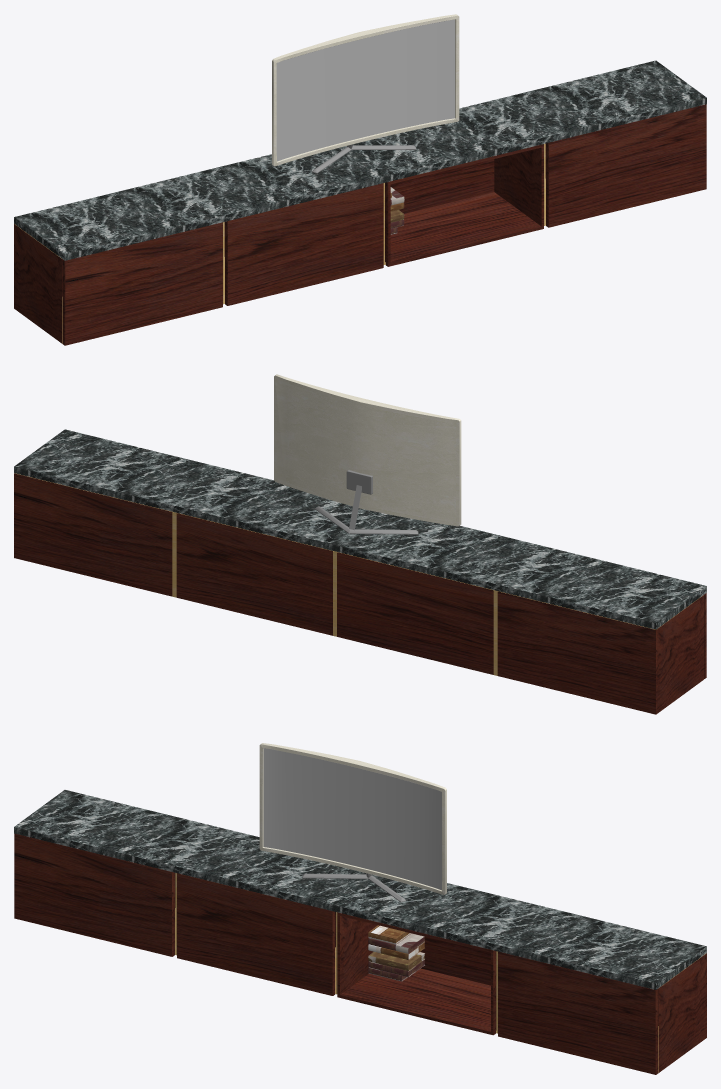
The model's file is Tele.obj.
3 renders of one model, top to bottom at view 1: azimuth 30°, elevation 25°; view 2: azimuth 150°, elevation 25°; view 3: azimuth 330°, elevation 25°, orthographic.
Parts seen in each view (by area): view 1: ___, Rectangle001, __, Box001, Rectangle002, Line004; view 2: Box001, Rectangle001, Rectangle002, Line004; view 3: ___, Rectangle001, __, Box001, Rectangle002, Box013, Line004, Box014, Box012.
Part boxes in pixels (bbox=[...]): ___: bbox=[62, 104, 706, 345]; Rectangle001: bbox=[14, 60, 706, 260]; __: bbox=[276, 19, 454, 161]; Box001: bbox=[14, 143, 545, 343]; Rectangle002: bbox=[272, 14, 459, 166]; Line004: bbox=[312, 144, 415, 173]; Box001: bbox=[14, 473, 703, 714]; Rectangle001: bbox=[14, 429, 706, 629]; Rectangle002: bbox=[274, 374, 461, 526]; Line004: bbox=[314, 485, 418, 534]; ___: bbox=[14, 833, 658, 1074]; Rectangle001: bbox=[14, 790, 706, 989]; __: bbox=[263, 748, 441, 890]; Box001: bbox=[175, 873, 706, 1072]; Rectangle002: bbox=[259, 743, 446, 894]; Box013: bbox=[368, 952, 424, 970]; Line004: bbox=[302, 873, 406, 902]; Box014: bbox=[368, 933, 424, 953]; Box012: bbox=[368, 925, 411, 944].
Bounding box in the file's own units: 309 × 99.43 × 42.39.
